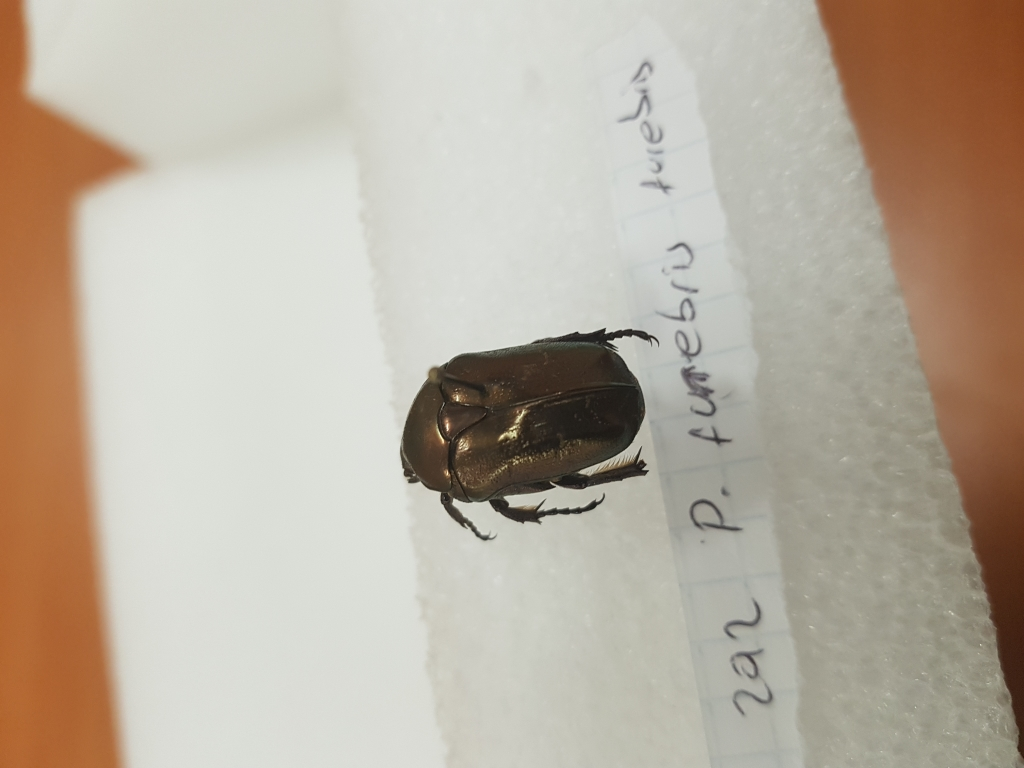Protaetia_funebris: (389, 312, 699, 545)
